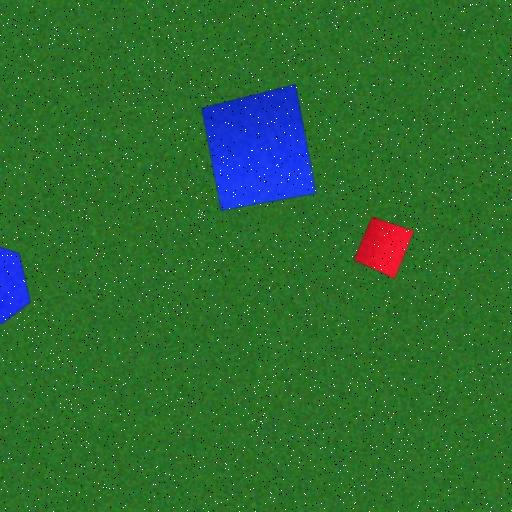BLUE_SQUARE: (201, 83, 317, 212)
RED_SQUARE: (353, 216, 414, 279)
